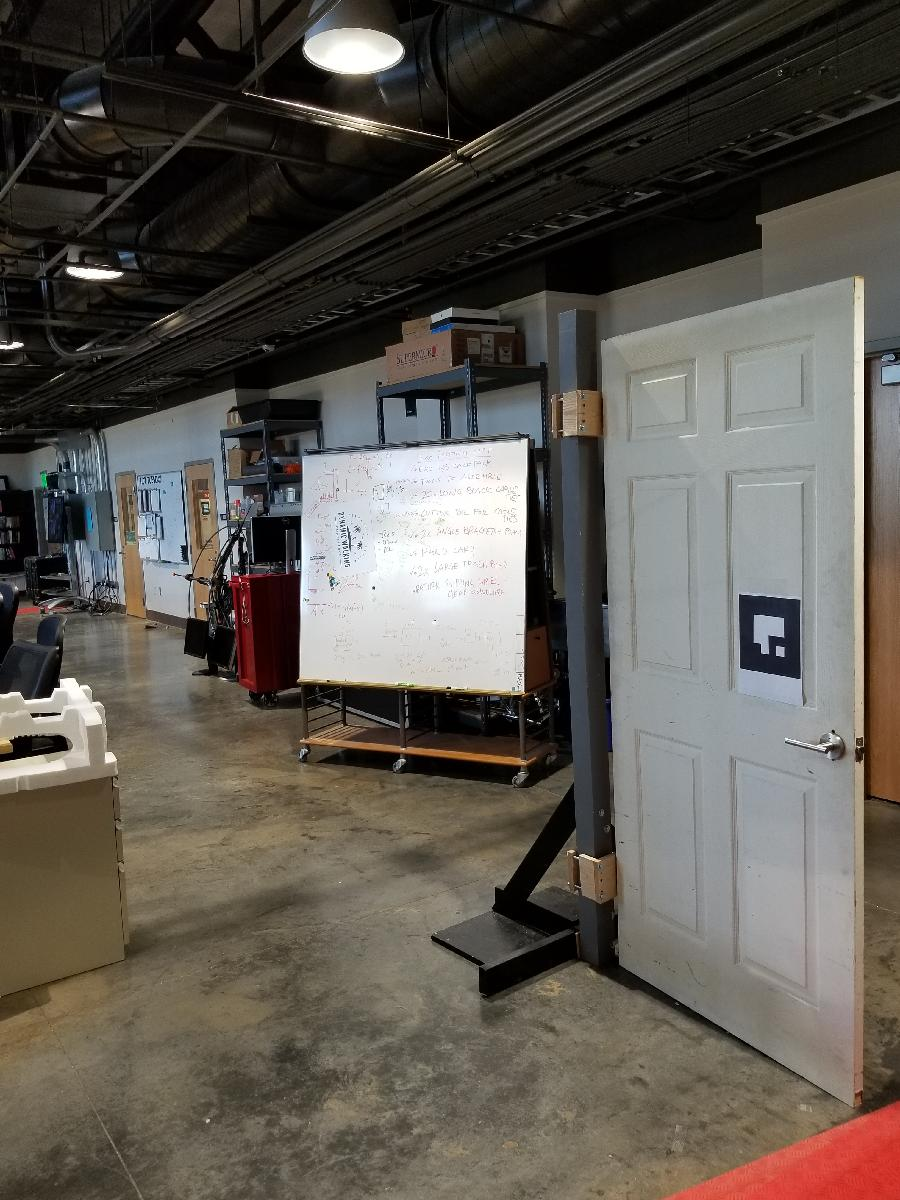door: (598, 272, 877, 1112)
doorHandle: (781, 729, 847, 766)
